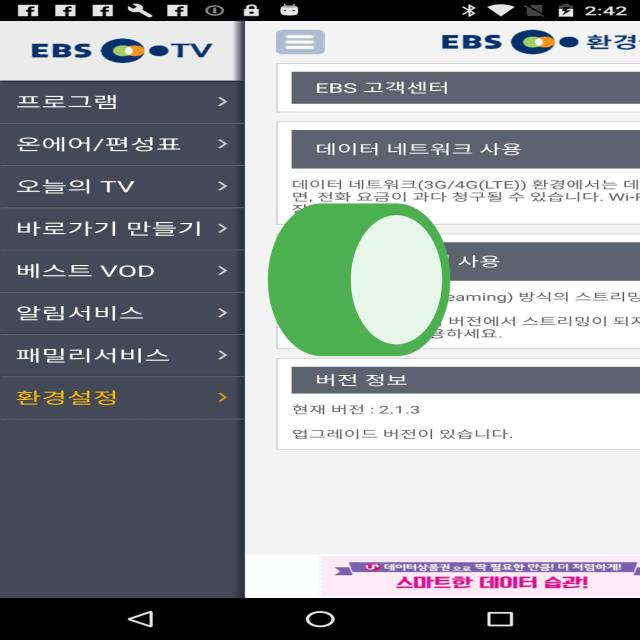social proof: (260, 144, 458, 426)
